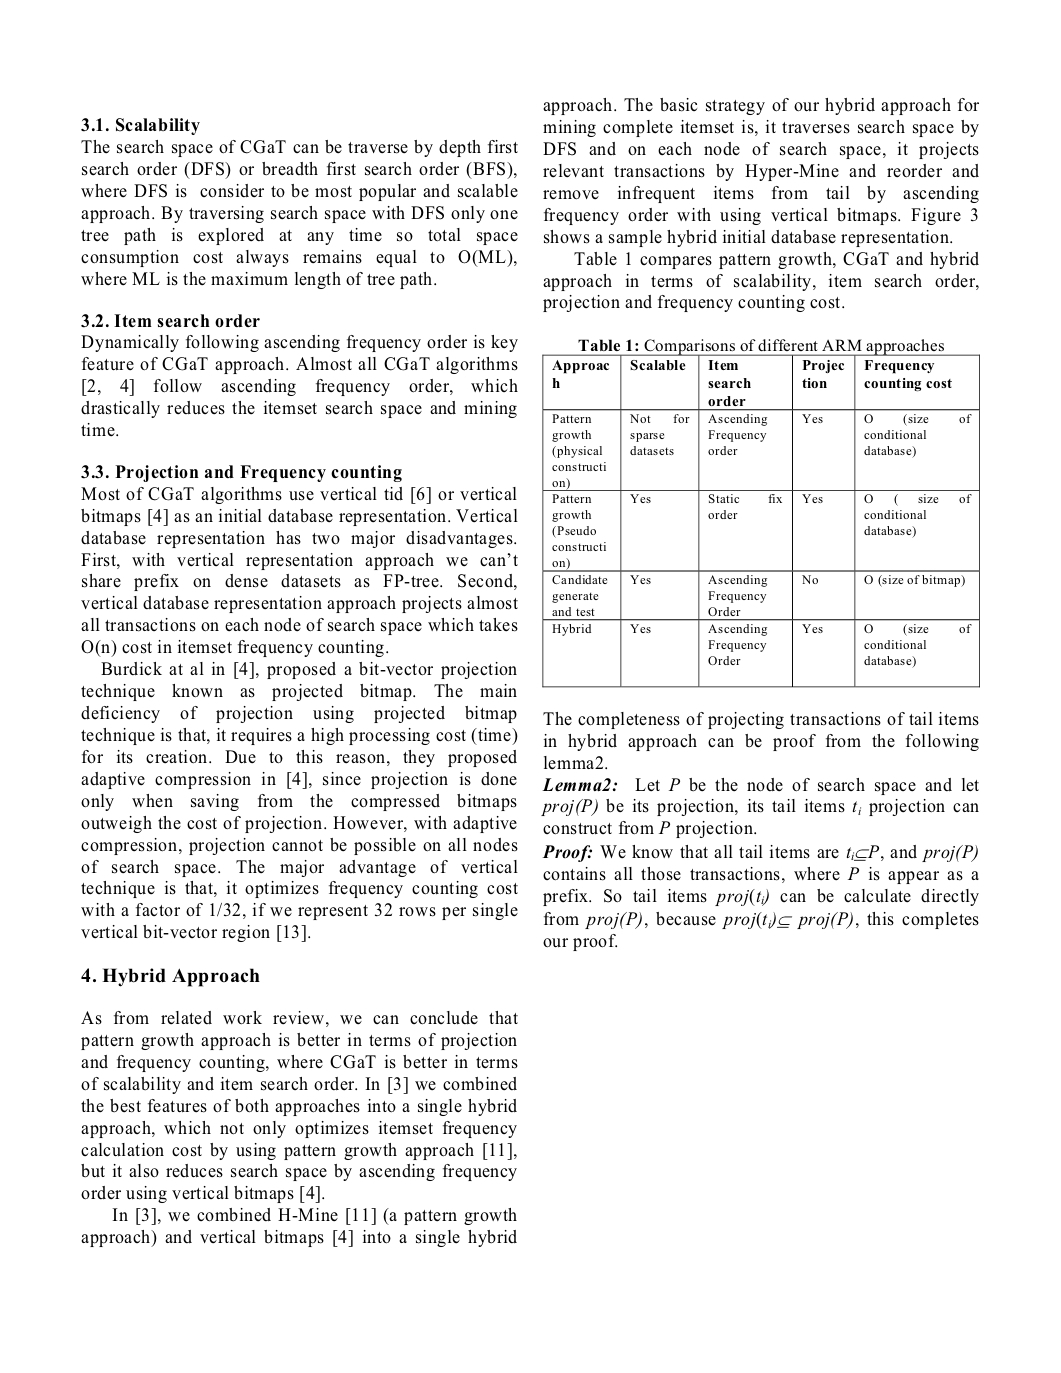Table: (542, 338, 979, 688)
